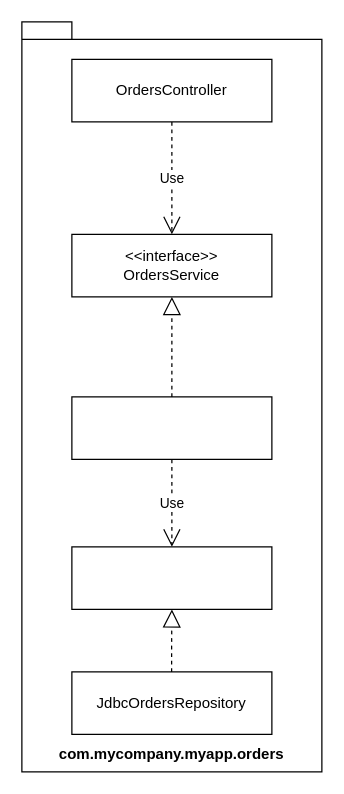
Image size: 344x794. Some labels were removed from this diagram. The box of each missing label's shape, as (x1, y1, x2, y2) in pixels:
<<interface>> OrdersRepository: (71, 546, 272, 609)
OrdersServiceImpl: (71, 396, 272, 459)
